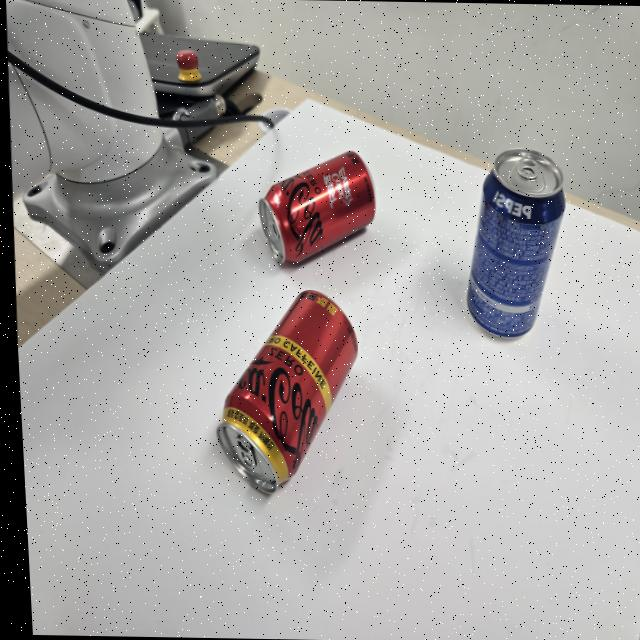can_coke_decaf: (217, 289, 358, 492)
can_coke_zero: (258, 151, 375, 263)
can_pepsi: (467, 148, 564, 337)
